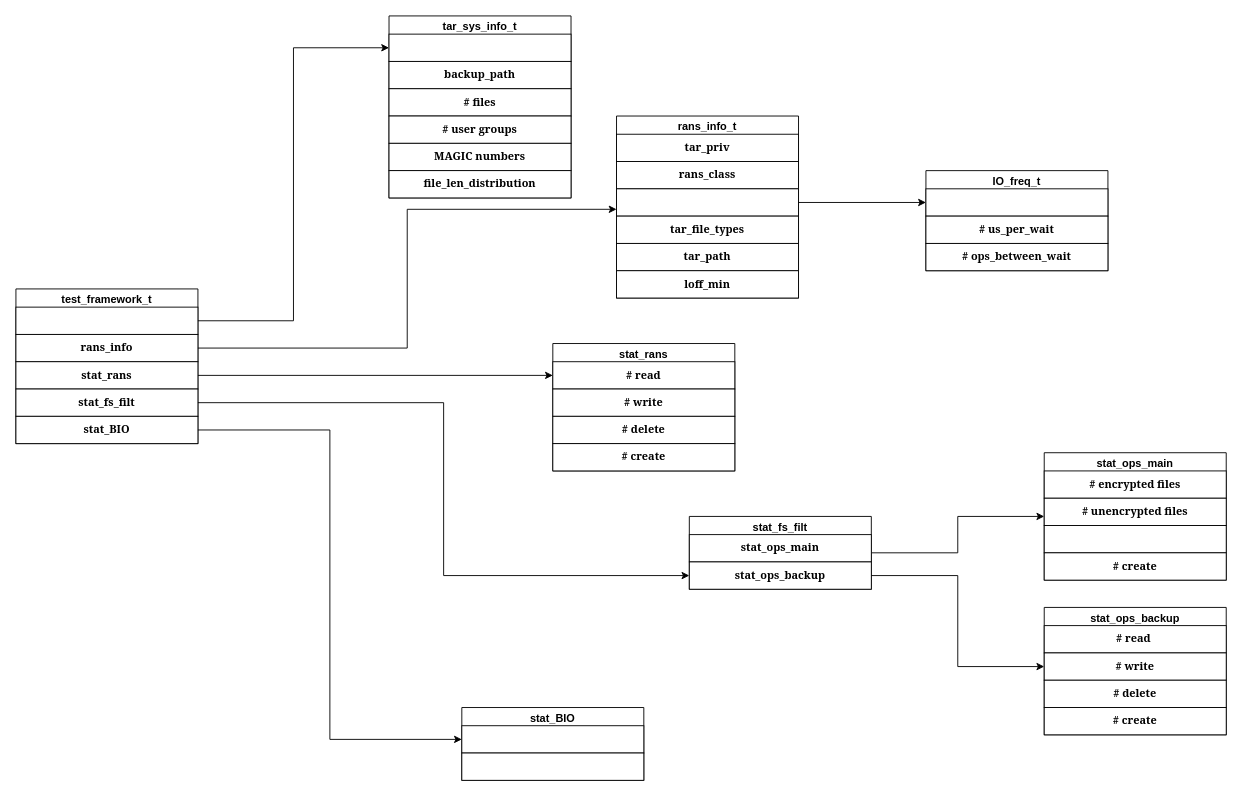
Image size: 1242x796. Some labels were removed from this diagram. The centre of each missing label's shape, as x and y in pixels:
# encrypted: the point at 552,739
# unencrypt: the point at 552,766
IO_frequency: the point at 707,202
root_path: the point at 479,47
tar_sys_info: the point at 106,320
typeID: the point at 1016,202
